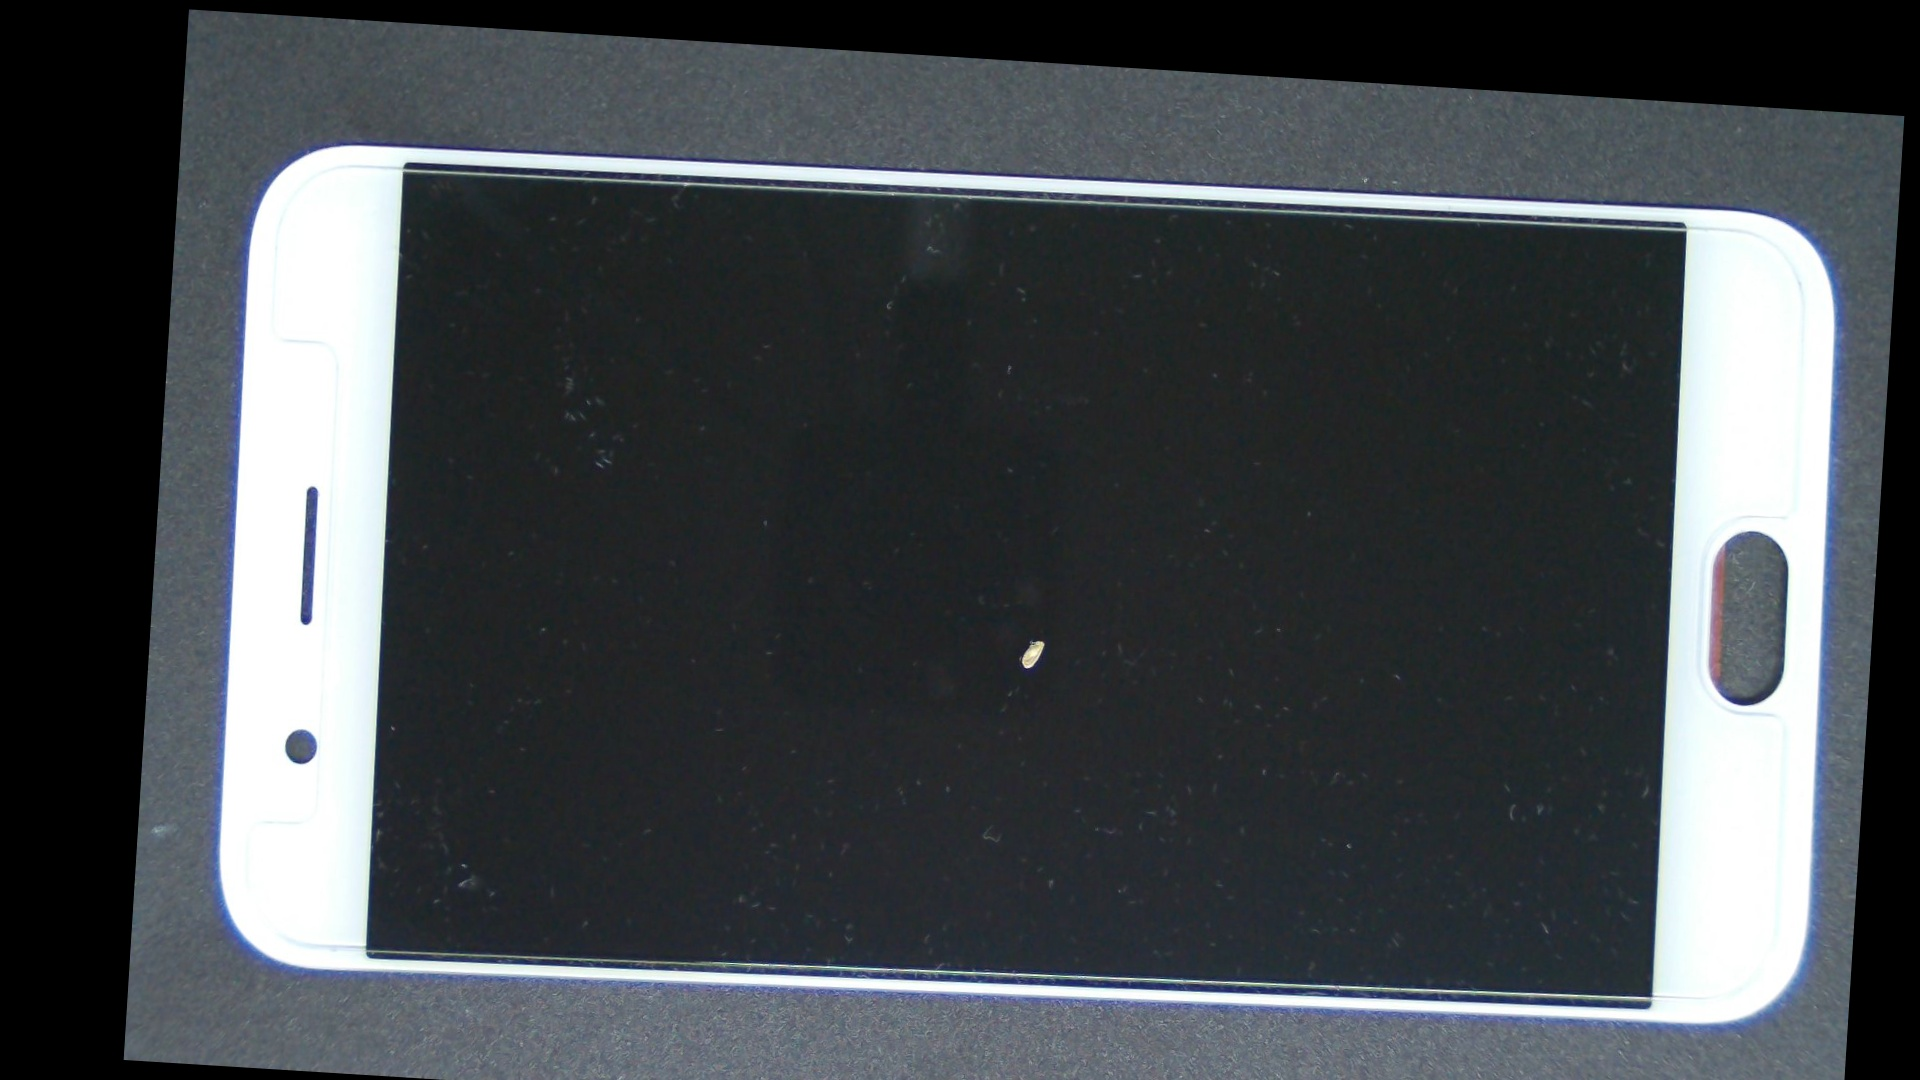oil: (578, 324, 1497, 955)
